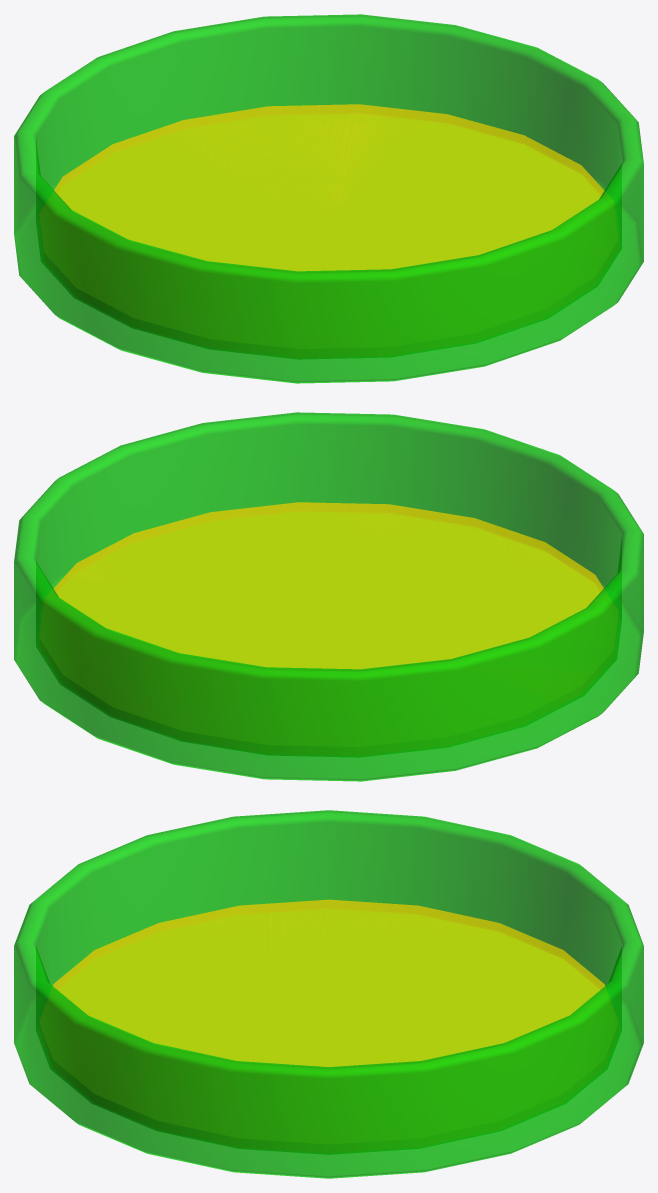
File: SM_Placa_Dilusion_Seriada.fbx
3 renders of one model, top to bottom at view 1: azimuth 30°, elevation 25°; view 2: azimuth 150°, elevation 25°; view 3: azimuth 270°, elevation 25°, orthographic.
Parts seen in each view (by area): view 1: polySurface5; view 2: polySurface5; view 3: polySurface5.
Part boxes in pixels (x1,y1,x2,y2): polySurface5: (14,14,643,383); polySurface5: (14,412,643,781); polySurface5: (14,810,643,1178).
Bounding box in the file's own units: 32 × 32 × 6.
